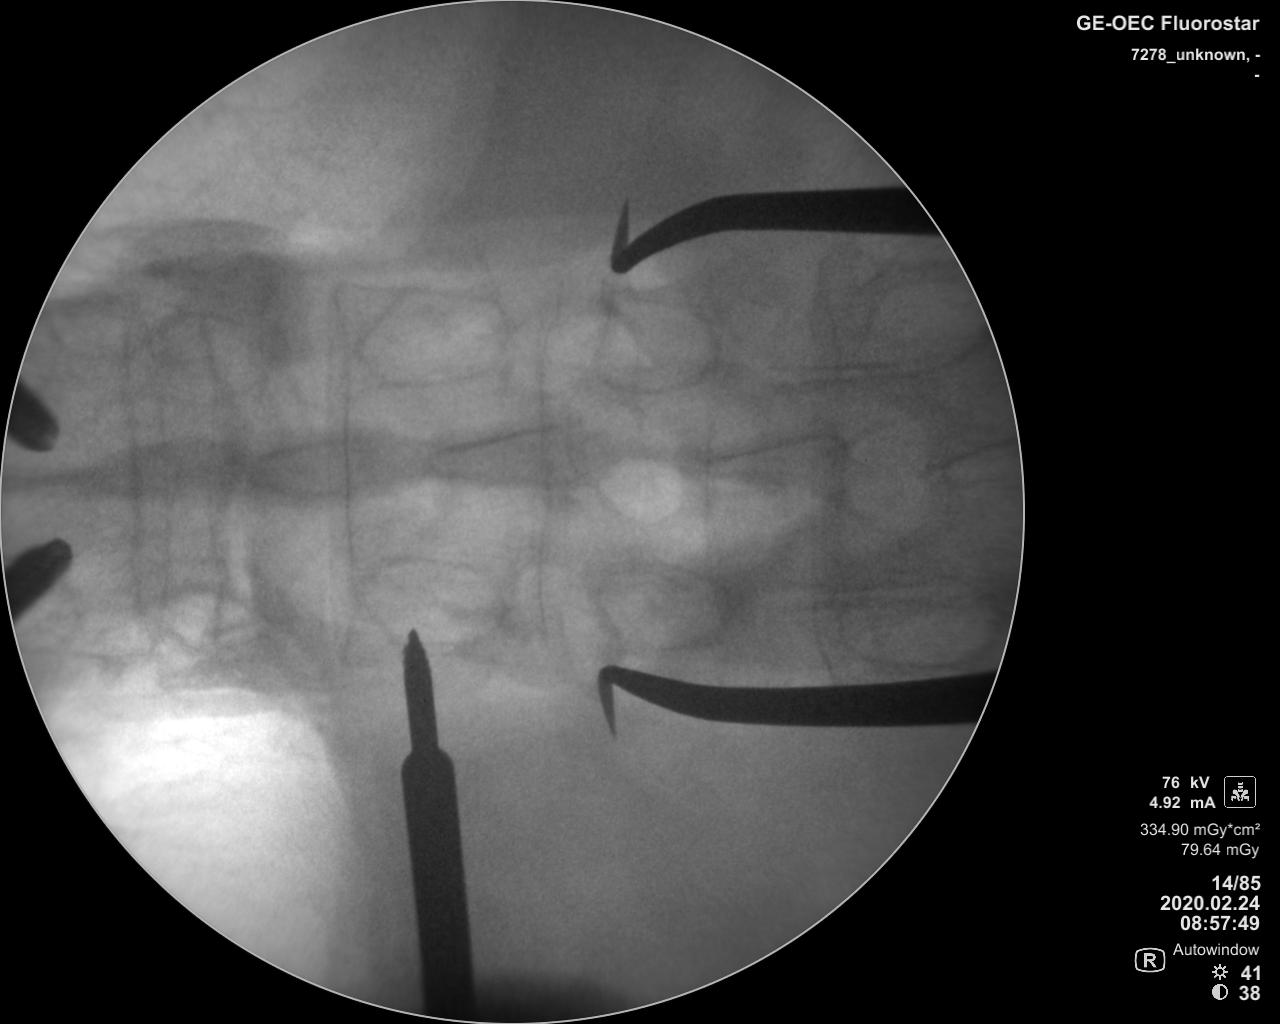eyes: (335, 290, 513, 383), (582, 285, 722, 392), (840, 573, 990, 665), (600, 550, 734, 651), (362, 556, 506, 647), (851, 269, 967, 380), (144, 310, 276, 396)
line: (113, 280, 176, 654), (802, 250, 851, 676), (328, 269, 366, 678), (530, 262, 563, 678)
nose: (429, 417, 604, 496), (245, 433, 425, 503), (65, 440, 245, 502), (699, 428, 851, 498)
